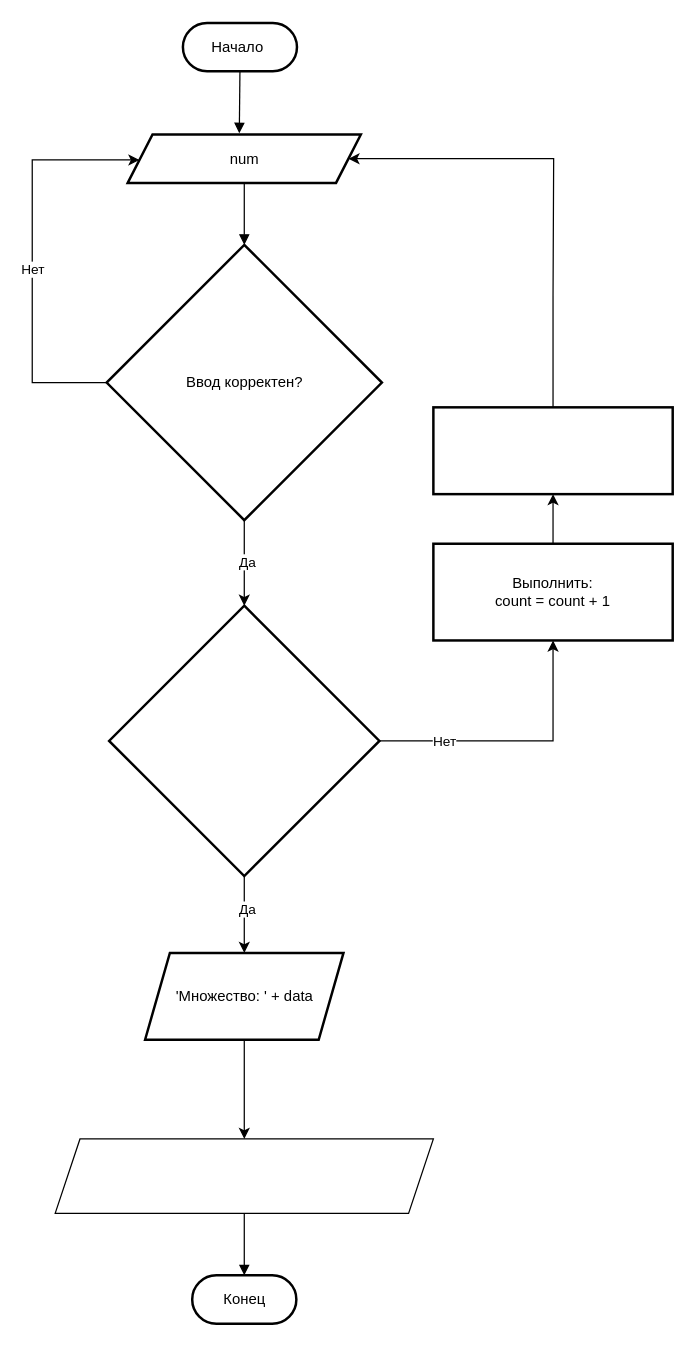
Image size: 696x1345. Some labels were removed from this diagram. Each missing label, with the centre of its shape:
"data.append(num)" belongs at pixel 552 450.
"Кол-во членов последовательности: ' + count" belongs at pixel 243 1175.
"Проверка условия: num == 0?" belongs at pixel 243 740.
